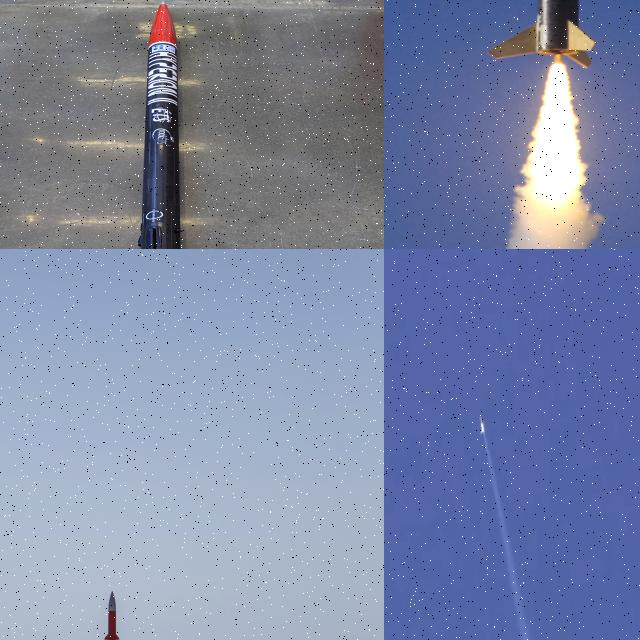Rocket: (137, 1, 184, 249), (486, 0, 599, 69), (94, 590, 128, 640), (480, 415, 486, 436)
